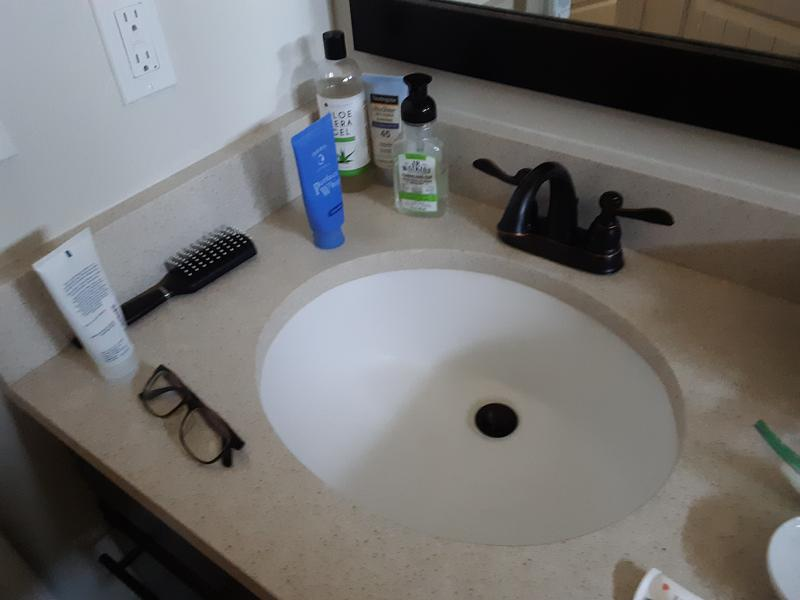glasses: (136, 363, 248, 470)
